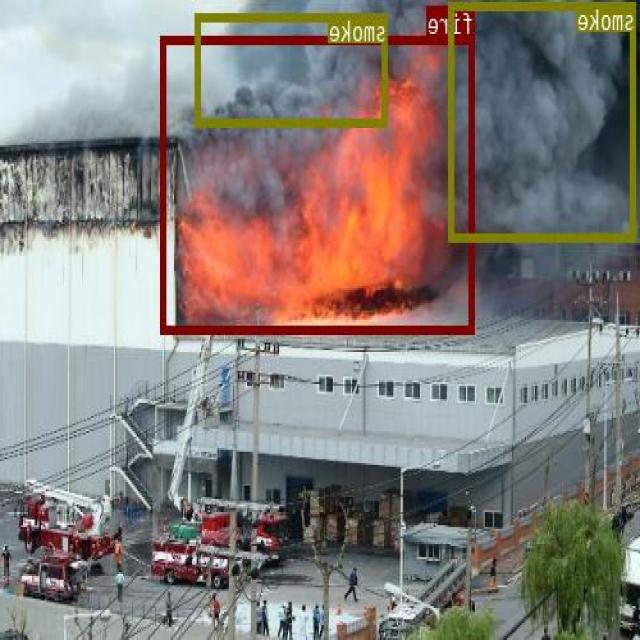fire: (161, 35, 475, 333)
smoke: (450, 0, 637, 241), (197, 12, 389, 124)
